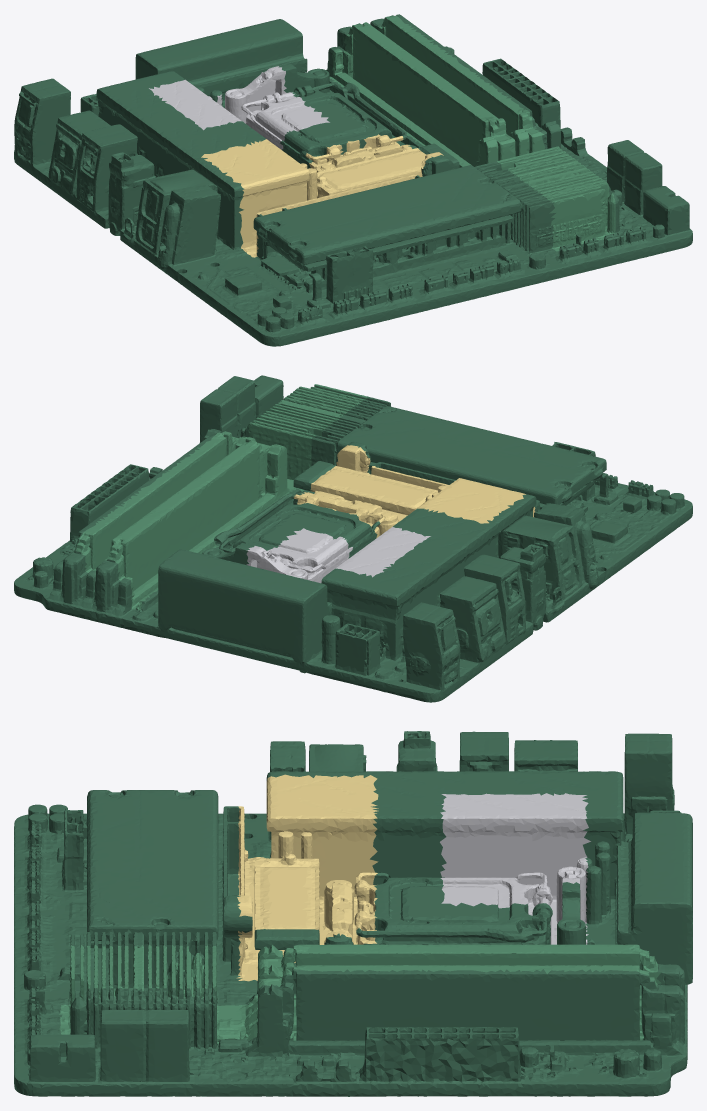
Rendered from PC_Components_v2.fbx.
The picture shows the model from 3 angles, top to bottom: view 1: azimuth 30°, elevation 25°; view 2: azimuth 150°, elevation 25°; view 3: azimuth 270°, elevation 25°; orthographic projection. The views are drawn at different scales.
Parts seen in each view (by area): view 1: Board_Rest, RAM_Part, SSD_Part, CPU_Part; view 2: Board_Rest, RAM_Part, SSD_Part, CPU_Part; view 3: Board_Rest, SSD_Part, RAM_Part, CPU_Part.
Part boxes in pixels (<box>): Board_Rest: <box>14,14,692,346</box>; RAM_Part: <box>329,15,615,251</box>; SSD_Part: <box>201,134,443,257</box>; CPU_Part: <box>149,66,329,149</box>; Board_Rest: <box>14,375,692,702</box>; RAM_Part: <box>76,384,368,610</box>; SSD_Part: <box>293,445,535,538</box>; CPU_Part: <box>246,526,430,583</box>; Board_Rest: <box>14,731,692,1096</box>; SSD_Part: <box>236,774,378,981</box>; RAM_Part: <box>59,944,661,1044</box>; CPU_Part: <box>440,793,590,944</box>.
Size of the model in its own units: 181 by 32.31 by 190.
